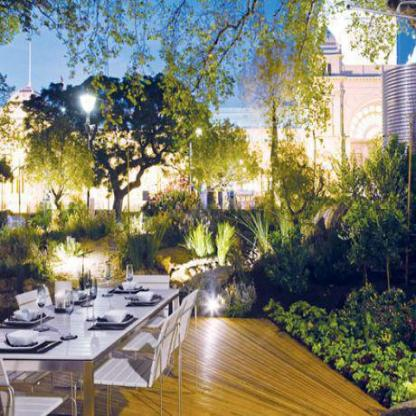other: (4, 108, 40, 218), (74, 87, 102, 129), (196, 286, 229, 321)
